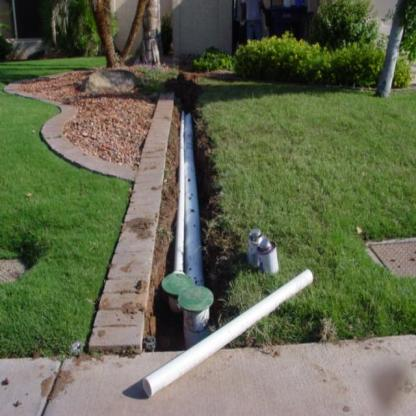PVC: (144, 109, 311, 400)
